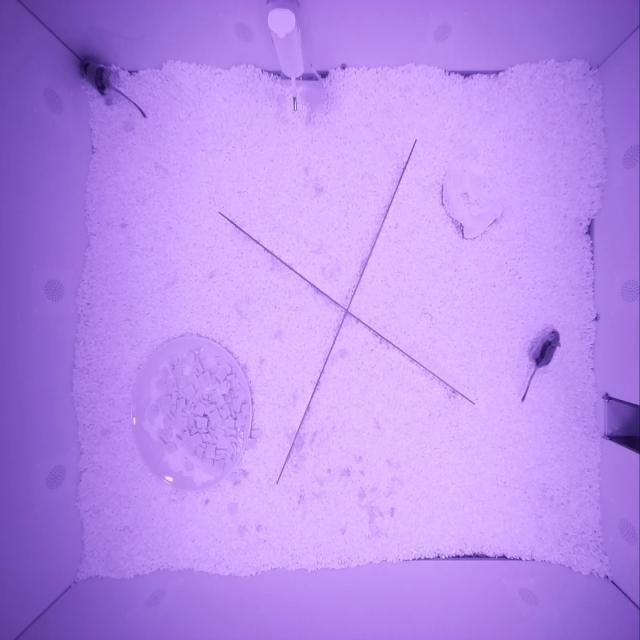pup_h_stripe: (80, 59, 118, 96)
pup_v_stripe: (530, 329, 561, 367)
